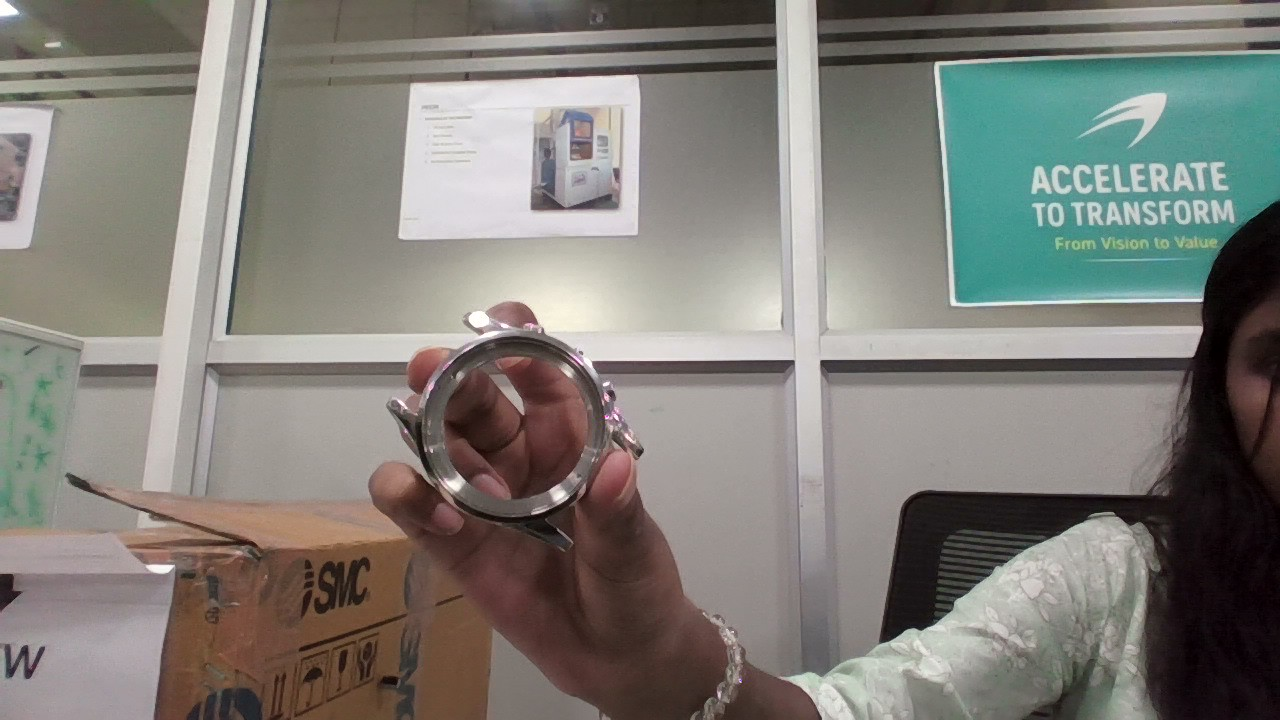case1: (377, 309, 648, 555)
